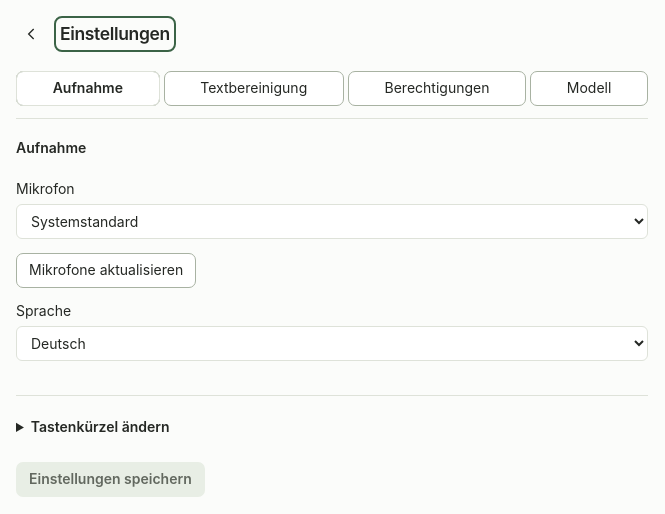
Test: hybrid model is fixed and settings offer no engine switch
Click the button "Modell" at (589, 88), box [530,71,648,106]
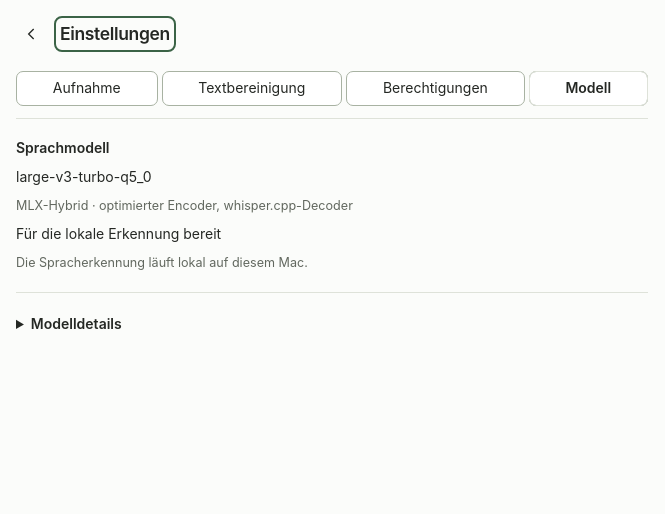
Expected: the dropdown is gone
Expected: the text "MLX-Hybrid · optimierter Encoder, whisper.cpp-Decoder" is shown, [16,198,353,213]
